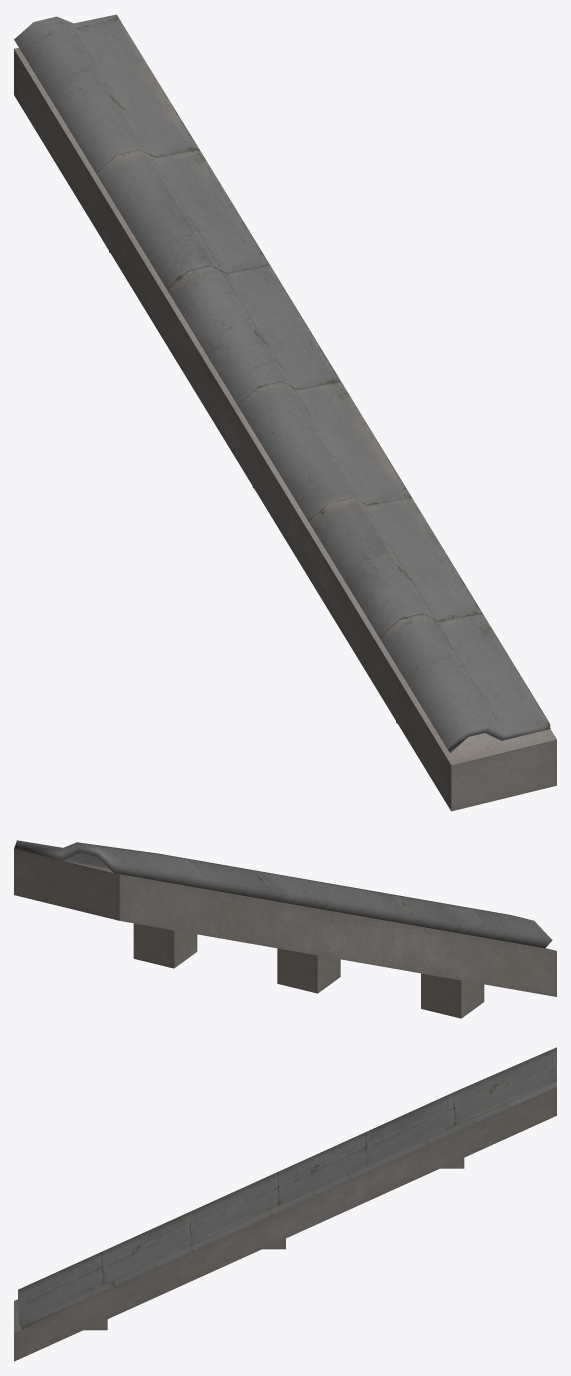
The model's file is Roof_Overhang_A.fbx.
The picture shows the model from 3 angles, top to bottom: view 1: azimuth 30°, elevation 25°; view 2: azimuth 150°, elevation 25°; view 3: azimuth 270°, elevation 25°; orthographic projection. The views are drawn at different scales.
Parts seen in each view (by area): view 1: Roof_Overhang_A; view 2: Roof_Overhang_A; view 3: Roof_Overhang_A.
Boxes of the visible parts, left/top/right/bottom form: Roof_Overhang_A: left=14, top=14, right=556, bottom=811; Roof_Overhang_A: left=14, top=840, right=556, bottom=1018; Roof_Overhang_A: left=14, top=1047, right=556, bottom=1361.
Size of the model in its own units: 42.5 by 178 by 304.
